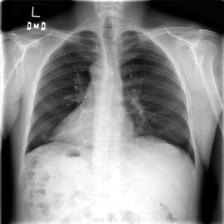normal: (21, 22, 201, 176)
